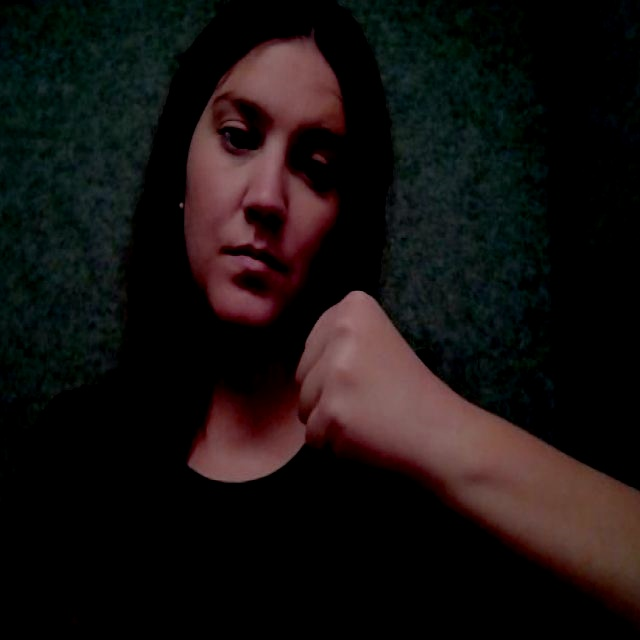Rock: (295, 280, 443, 494)
